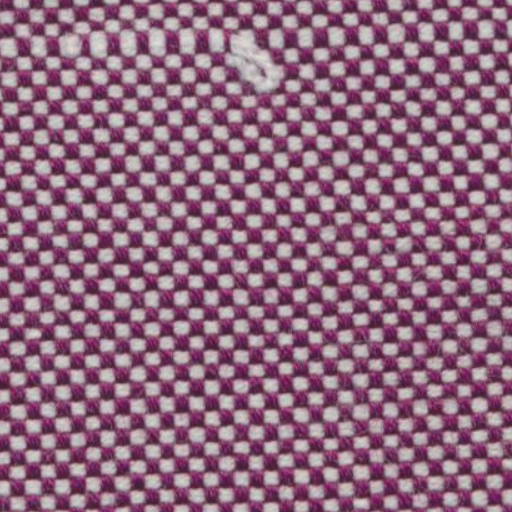DaiSha: (12, 18, 296, 96)
